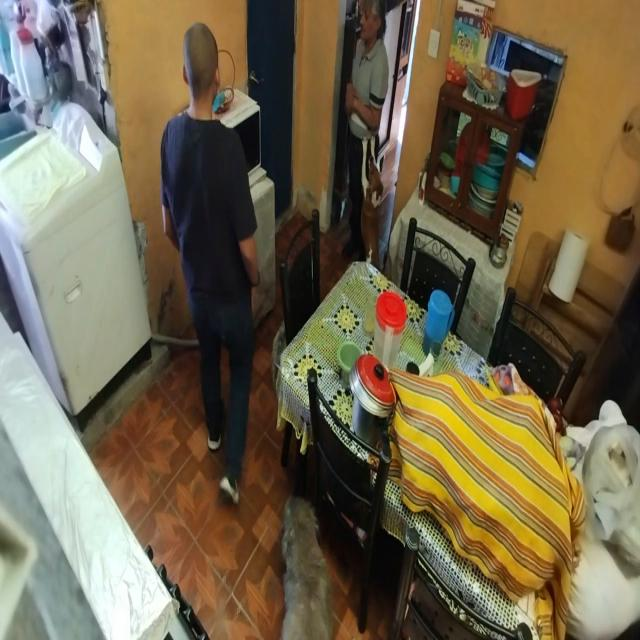adult: (161, 22, 259, 502), (343, 2, 388, 270)
